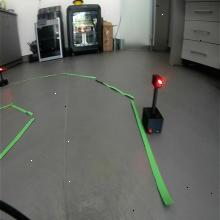red: (151, 73, 164, 89)
